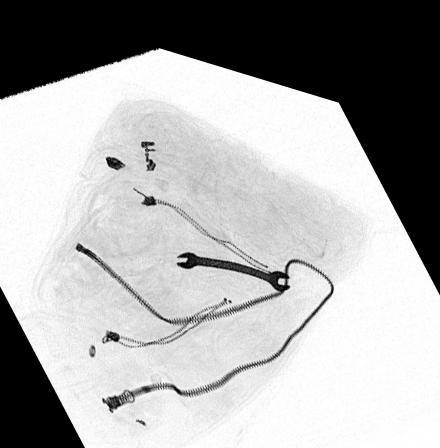Wrench: (173, 238, 290, 276)
